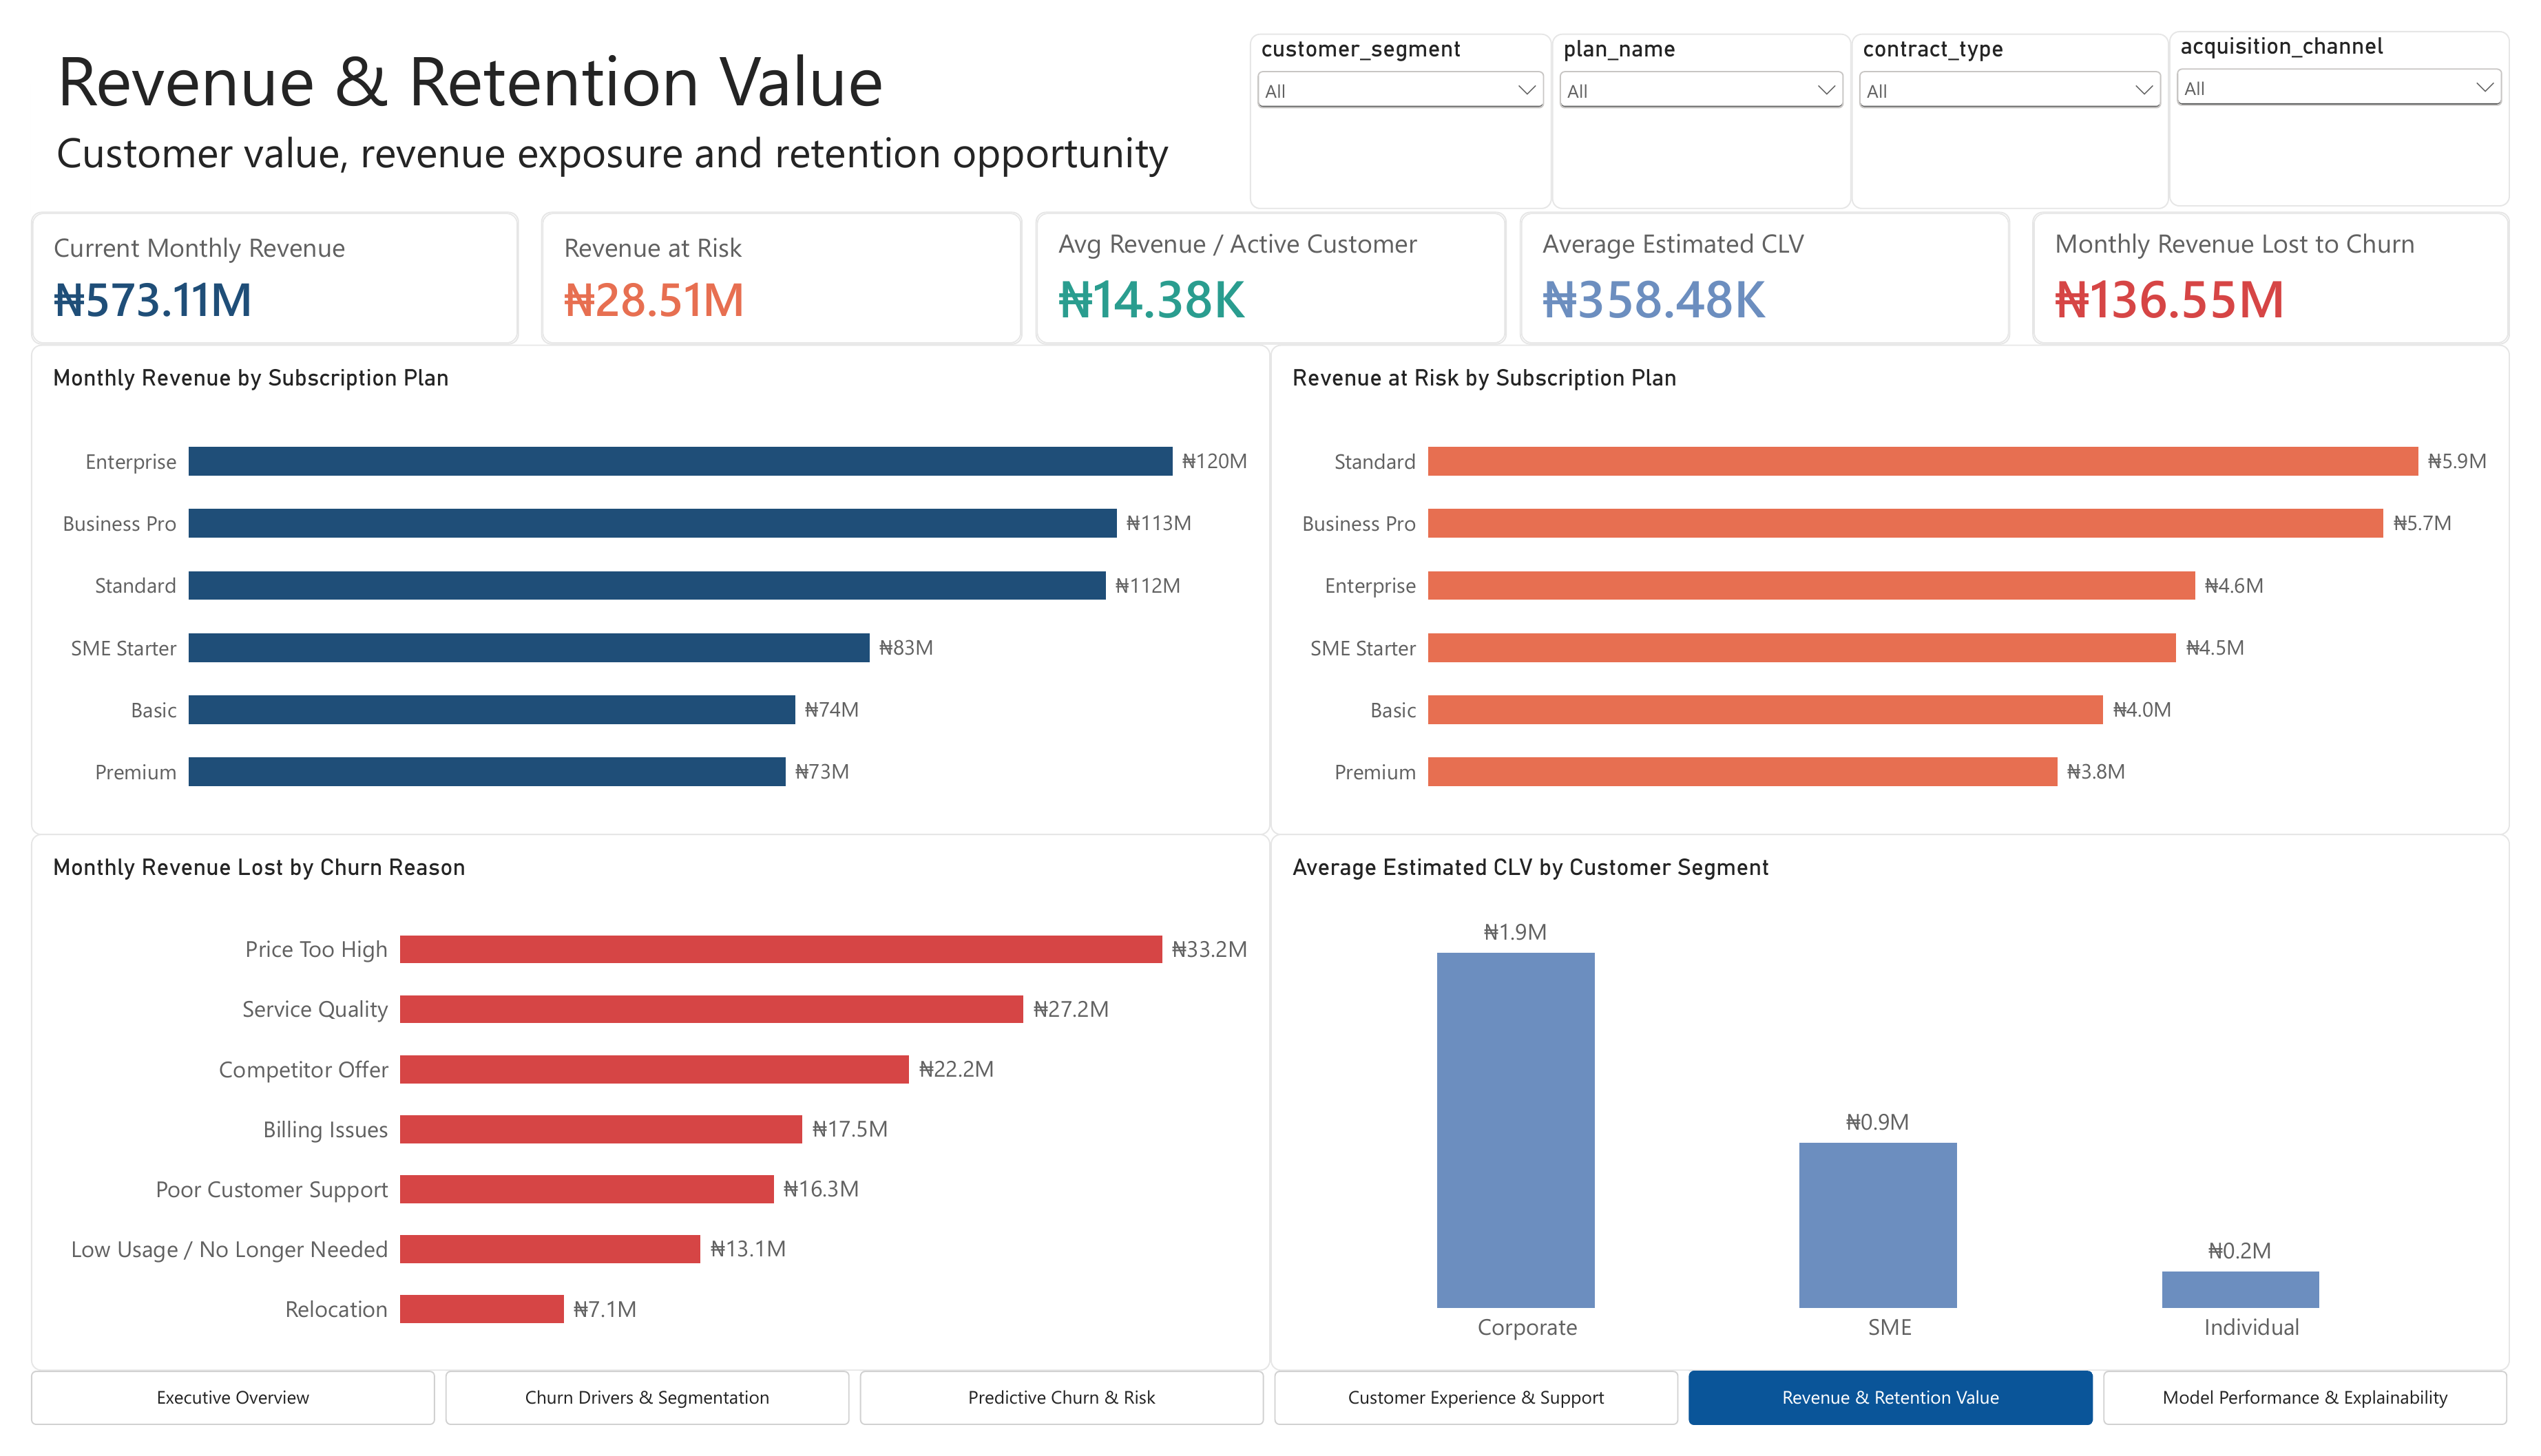

The page's visual inventory and layout, read from the dashboard file:
{"tool":"powerbi","page":{"name":"Revenue & Retention Value","canvas":[1920,1080],"ordinal":4},"visuals":[{"type":"textbox","box":[20,0,896,136],"z":0},{"type":"slicer","fields":{"Values":["customer_retention_snapshot.customer_segment"]},"box":[944,2,234,136],"z":1000},{"type":"slicer","fields":{"Values":["customer_retention_snapshot.plan_name"]},"box":[1178,2,232,136],"z":2000},{"type":"slicer","fields":{"Values":["customer_retention_snapshot.acquisition_channel"]},"box":[1656,0,264,136],"z":3000},{"type":"slicer","fields":{"Values":["customer_retention_snapshot.contract_type"]},"box":[1410,2,246,136],"z":4000},{"type":"cardVisual","fields":{"Data":["Measures (2).Monthly Recurring Revenue"]},"box":[0,140,377.5,102.5],"z":5000},{"type":"cardVisual","fields":{"Data":["Measures (2).High-Risk Monthly Revenue"]},"box":[395,140,372.5,102.5],"z":6000},{"type":"cardVisual","fields":{"Data":["Measures (2).Average Estimated CLV"]},"box":[1152.5,140,380,102.5],"z":7000},{"type":"cardVisual","fields":{"Data":["Measures (2).Average Revenue per Active Customer"]},"box":[777.5,140,365,102.5],"z":8000},{"type":"cardVisual","fields":{"Data":["Measures (2).Monthly Revenue Lost to Churn"]},"box":[1550,140,370,102.5],"z":9000},{"type":"clusteredBarChart","title":"Monthly Revenue by Subscription Plan","fields":{"Category":["customer_retention_snapshot.plan_name"],"Y":["Measures (2).Monthly Recurring Revenue"]},"box":[0,242.5,960,380],"z":10000},{"type":"clusteredBarChart","title":"Revenue at Risk by Subscription Plan","fields":{"Y":["Measures (2).High-Risk Monthly Revenue"],"Category":["customer_retention_snapshot.plan_name"]},"box":[960,242.5,960,380],"z":11000},{"type":"clusteredBarChart","title":"Monthly Revenue Lost by Churn Reason","fields":{"Y":["Measures (2).Monthly Revenue Lost to Churn"],"Category":["customer_retention_snapshot.churn_reason"]},"box":[0,622,960,416],"z":12000},{"type":"clusteredColumnChart","title":"Average Estimated CLV by Customer Segment","fields":{"Y":["Measures (2).Average Estimated CLV"],"Category":["customer_retention_snapshot.customer_segment"]},"box":[960,622,960,416],"z":13000},{"type":"pageNavigator","box":[0,1038,1920,42],"z":14000}]}

Visuals, with their boxes in screenshot pixels (x1, y1, x2, y2), scaled from the page's 1920x1080 canvas onto the 2541x1456 screenshot:
textbox: (26,0,1212,183)
slicer - customer_retention_snapshot.customer_segment: (1249,3,1559,186)
slicer - customer_retention_snapshot.plan_name: (1559,3,1866,186)
slicer - customer_retention_snapshot.acquisition_channel: (2192,0,2540,183)
slicer - customer_retention_snapshot.contract_type: (1866,3,2192,186)
cardVisual - Measures (2).Monthly Recurring Revenue: (0,189,500,327)
cardVisual - Measures (2).High-Risk Monthly Revenue: (523,189,1016,327)
cardVisual - Measures (2).Average Estimated CLV: (1525,189,2028,327)
cardVisual - Measures (2).Average Revenue per Active Customer: (1029,189,1512,327)
cardVisual - Measures (2).Monthly Revenue Lost to Churn: (2051,189,2540,327)
"Monthly Revenue by Subscription Plan" clusteredBarChart: (0,327,1270,839)
"Revenue at Risk by Subscription Plan" clusteredBarChart: (1270,327,2540,839)
"Monthly Revenue Lost by Churn Reason" clusteredBarChart: (0,838,1270,1400)
"Average Estimated CLV by Customer Segment" clusteredColumnChart: (1270,838,2540,1400)
pageNavigator: (0,1400,2540,1455)
